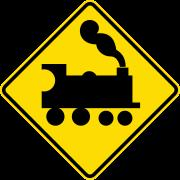Barrier Ahead: (11, 12, 171, 171)
